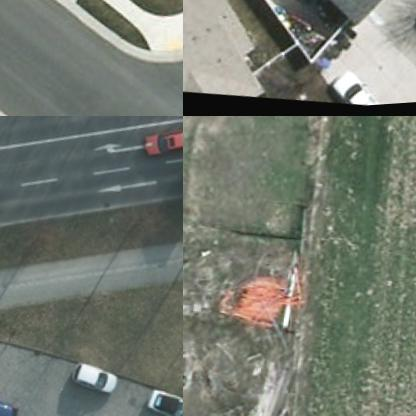car: (59, 360, 113, 393), (140, 121, 182, 161), (138, 386, 182, 415)
